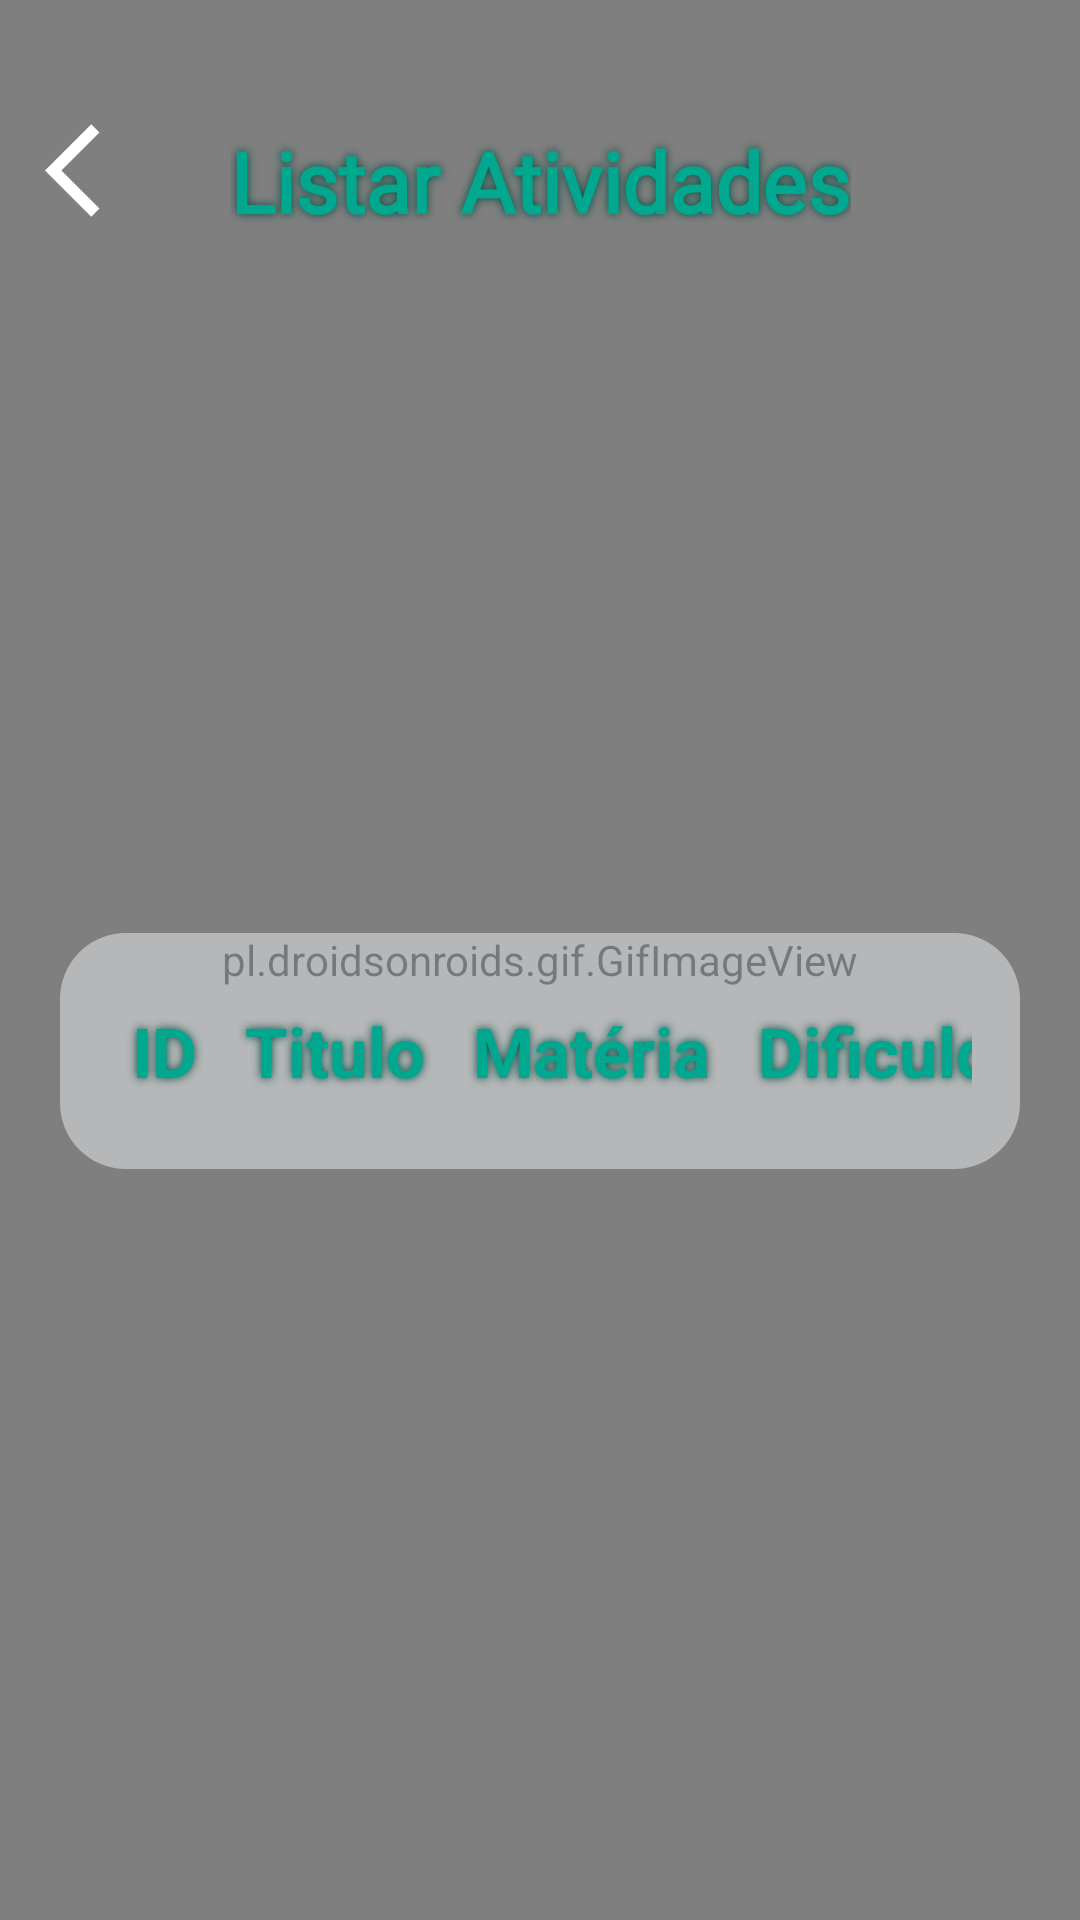

Icon click points for this 1080px x 1920px phone screenshot, format (x=x, y=y):
voltar: (x=72, y=170)
